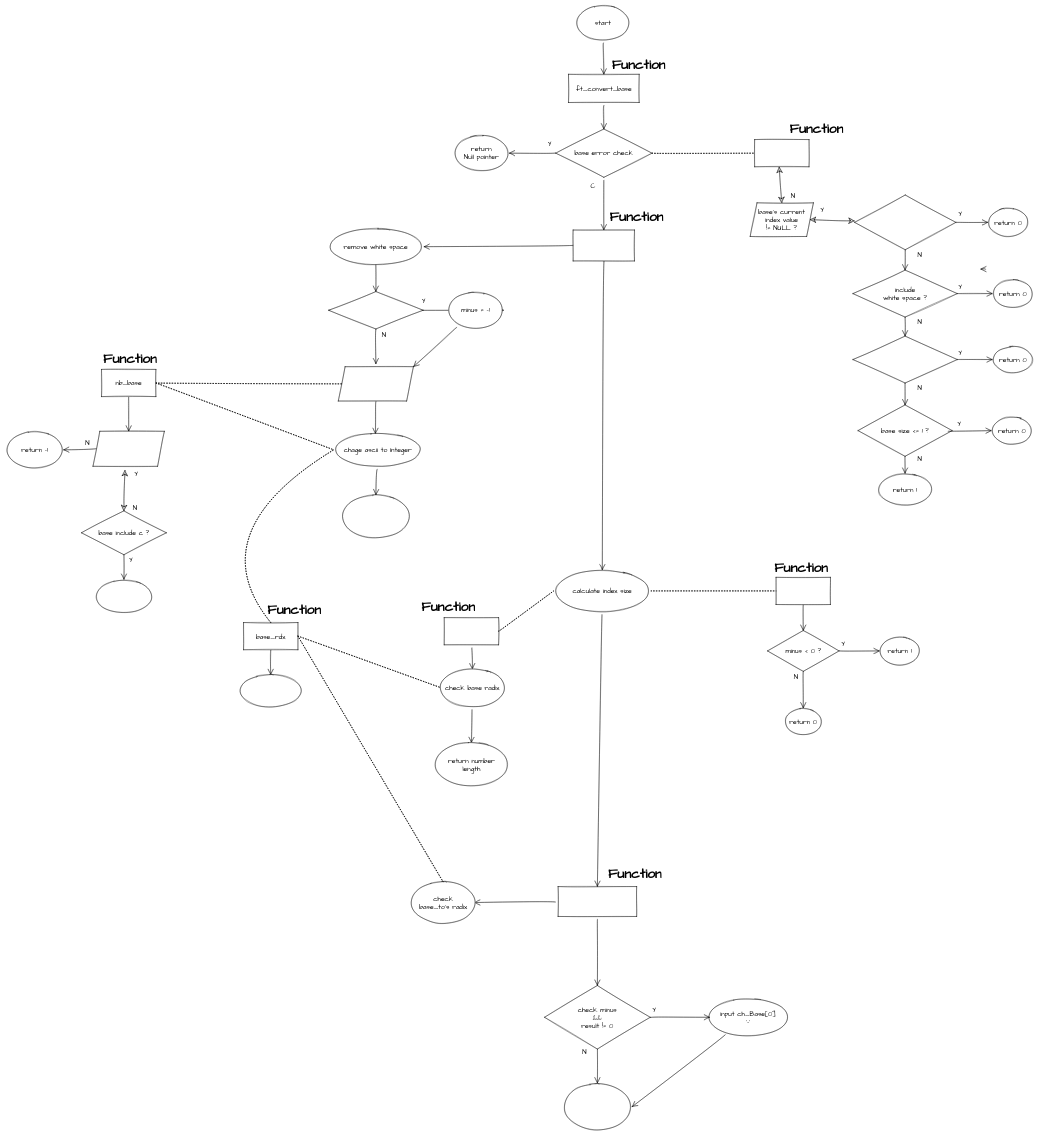
The diagram is 1039 pixels wide and 1137 high, and some of its shapes have lost their labels. Here are the shapes that lost their labels. From the top down, the box of each, then its label:
(754, 139, 809, 167): check_base
(854, 195, 956, 250): include '+', '-' or non-printable ascill ?
(573, 230, 635, 261): ft_atoi_base
(328, 291, 423, 329): odd check
(853, 336, 957, 383): include duplicate words ?
(338, 366, 413, 401): base_from include str all ?
(93, 431, 164, 466): base != NULL ? # count++
(341, 495, 411, 538): return Integer
(95, 579, 153, 613): return cnt
(776, 577, 830, 605): check_minus
(444, 617, 499, 645): _len
(239, 674, 303, 707): return base length
(558, 886, 637, 916): ft_putnbr_base
(563, 1083, 632, 1131): return ch_base
